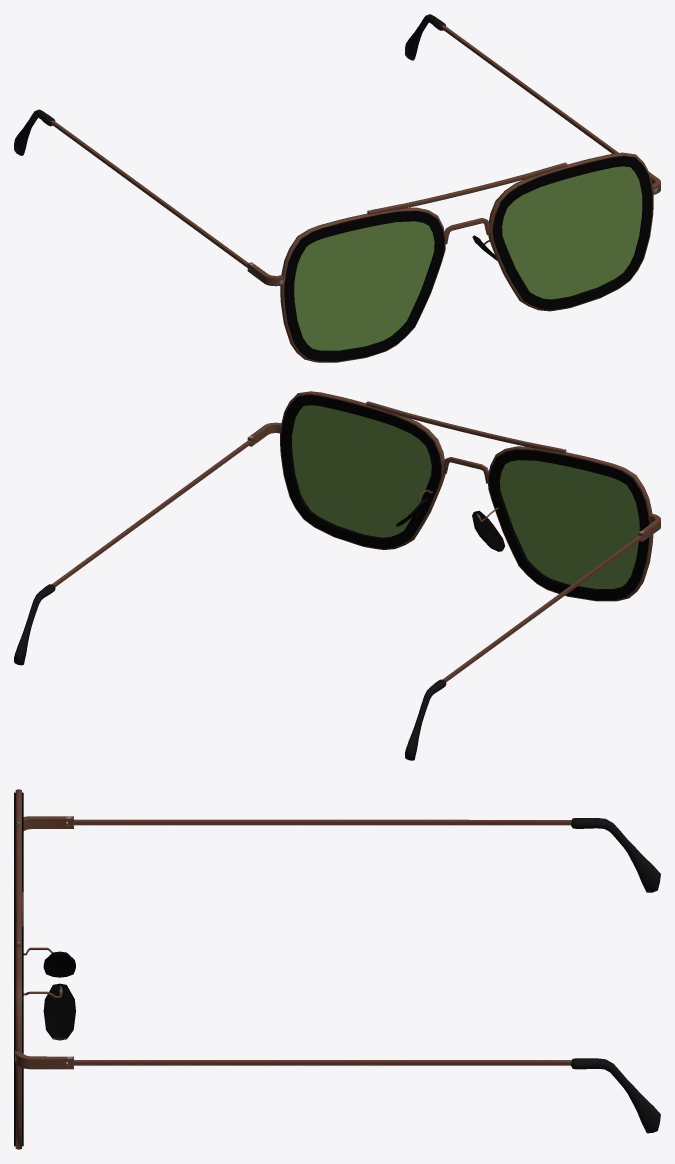
File: GlassesFourLast.glb
The picture shows the model from 3 angles, top to bottom: view 1: azimuth 30°, elevation 25°; view 2: azimuth 150°, elevation 25°; view 3: azimuth 270°, elevation 25°; orthographic projection. The views are drawn at different scales.
Parts seen in each view (by area): view 1: Cube.001; view 2: Cube.001; view 3: Cube.001.
Boxes of the visible parts, left/top/right/bottom form: Cube.001: left=14, top=14, right=660, bottom=362; Cube.001: left=14, top=391, right=660, bottom=760; Cube.001: left=14, top=789, right=660, bottom=1149.
Bounding box in the file's own units: 2.23 × 0.778 × 2.48.
Materials: 1 (1 with a texture image).
